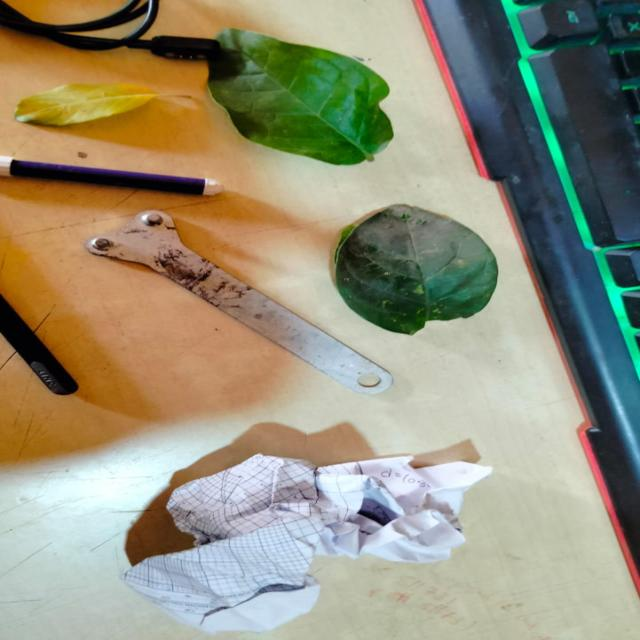Leaves: (217, 30, 393, 168), (330, 204, 499, 337), (11, 84, 158, 130)
Metal: (85, 217, 393, 400)
Paper: (120, 452, 492, 634)
Pen: (6, 158, 220, 198)
